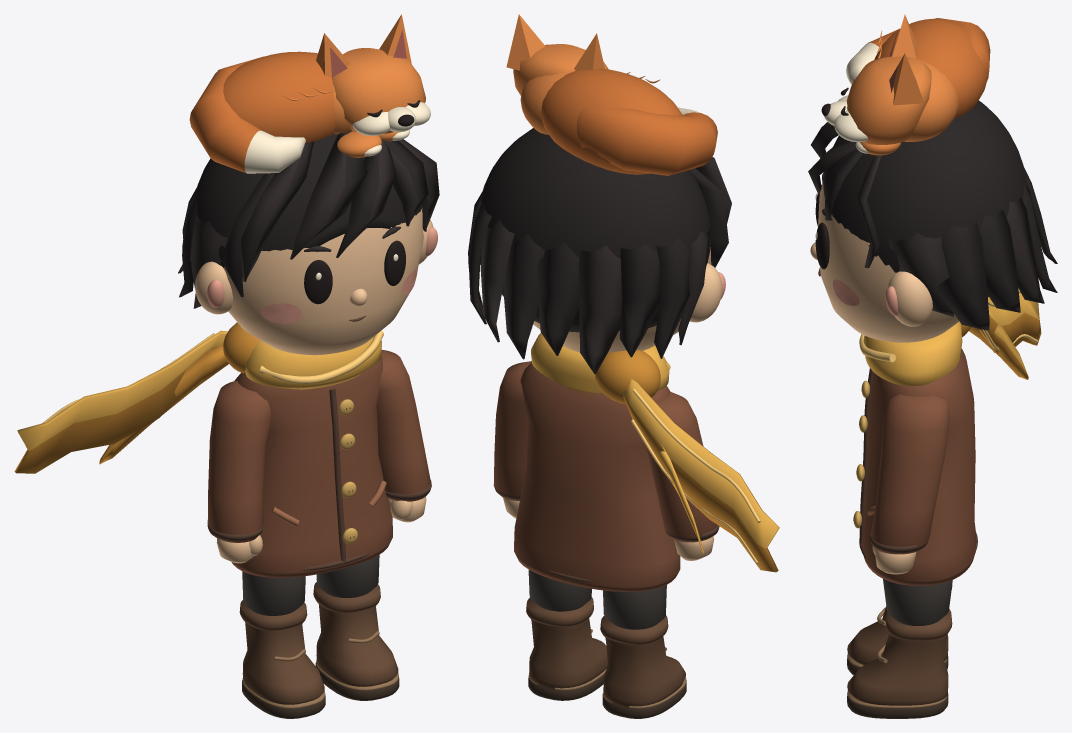
Rendered from traveller.glb.
3 views of the same model, side by side, from view 1: azimuth 30°, elevation 25°; view 2: azimuth 150°, elevation 25°; view 3: azimuth 270°, elevation 25° (orthographic). The views are drawn at different scales.
Parts seen in each view (by area): view 1: A-line travelling coat, Head | carved face, Scarf | folded broad streamer, Coat sleeve.L, Fox | curled back, Hair | cut cap, Fox | curled brush, Coat sleeve.R, Leather upper.R, Leather upper.L, Fox | sculpted mask, Hair | Sweep left (+23 smaller); view 2: A-line travelling coat, Hair | cut cap, Scarf | folded broad streamer, Fox | curled brush, Fox | curled back, Hair | nape lock 06, Leather upper.L, Leather upper.R, Coat sleeve.R, Hair | nape lock 05, Hair | nape lock 07, Hair | nape lock 04 (+25 smaller); view 3: Hair | cut cap, A-line travelling coat, Coat sleeve.R, Head | carved face, Leather upper.R, Fox | sculpted mask, Fox | curled back, Hair | nape lock 01, Scarf | neck wrap, Hair | nape lock 02, Hair | nape lock 00, Trouser leg.R (+22 smaller).
Part boxes in pixels (box(x1,y1,x2,y2)): A-line travelling coat: box(231, 356, 392, 577); Head | carved face: box(223, 208, 423, 355); Scarf | folded broad streamer: box(14, 330, 227, 473); Coat sleeve.L: box(207, 381, 271, 542); Fox | curled back: box(223, 51, 335, 143); Hair | cut cap: box(194, 134, 422, 267); Fox | curled brush: box(189, 56, 305, 173); Coat sleeve.R: box(376, 350, 430, 501); Leather upper.R: box(316, 604, 398, 686); Leather upper.L: box(242, 622, 324, 704); Fox | sculpted mask: box(331, 48, 425, 134); Hair | Sweep left: box(290, 131, 367, 259); A-line travelling coat: box(514, 362, 680, 591); Hair | cut cap: box(479, 128, 710, 332); Scarf | folded broad streamer: box(622, 379, 779, 572); Fox | curled brush: box(576, 105, 717, 175); Fox | curled back: box(541, 68, 682, 174); Hair | nape lock 06: box(578, 245, 621, 373); Leather upper.L: box(603, 636, 685, 707); Leather upper.R: box(529, 618, 607, 689); Coat sleeve.R: box(494, 361, 531, 500); Hair | nape lock 05: box(538, 243, 579, 355); Hair | nape lock 07: box(619, 243, 659, 357); Hair | nape lock 04: box(503, 234, 545, 359); Hair | cut cap: box(823, 100, 1027, 297); A-line travelling coat: box(862, 348, 976, 585); Coat sleeve.R: box(870, 394, 949, 554); Head | carved face: box(818, 183, 959, 342); Leather upper.R: box(847, 633, 948, 705); Fox | sculpted mask: box(846, 56, 931, 144); Fox | curled back: box(874, 18, 986, 118); Hair | nape lock 01: box(937, 222, 989, 330); Scarf | neck wrap: box(863, 321, 962, 385); Hair | nape lock 02: box(979, 210, 1020, 312); Hair | nape lock 00: box(888, 232, 953, 316); Trouser leg.R: box(883, 579, 952, 625).
Size of the model in its own units: 1.88 by 3.32 by 1.11.
